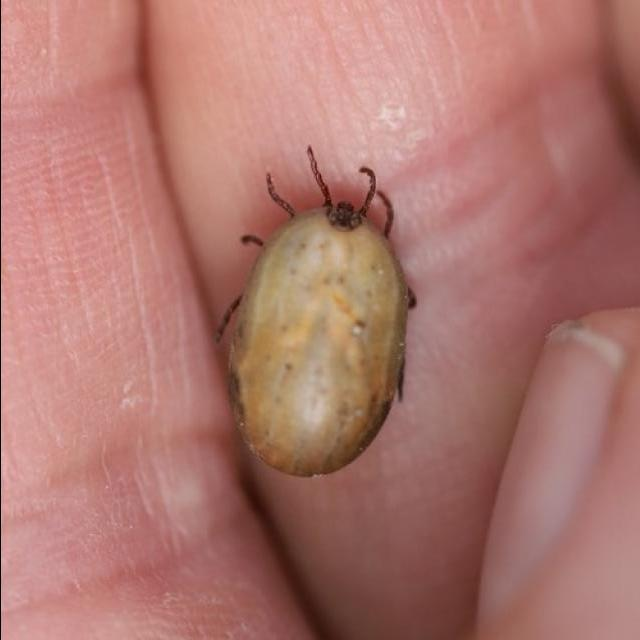Dermacentor Reticulatus-F-Fed: (214, 147, 416, 479)
